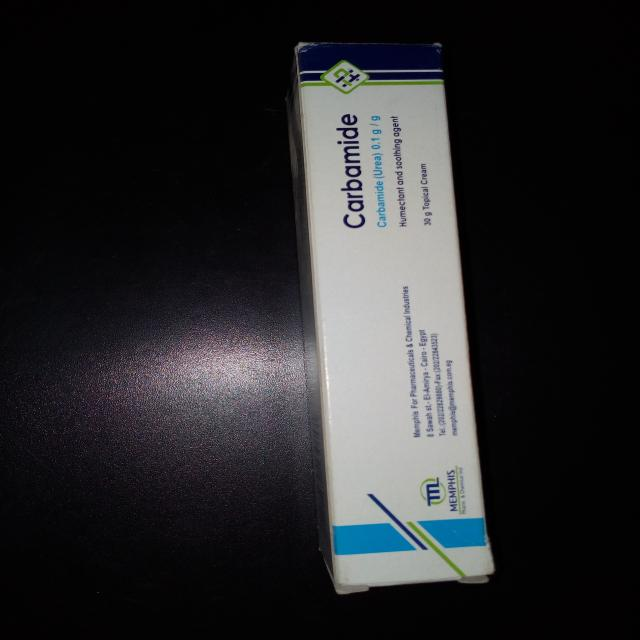Medicine: (290, 41, 497, 594)
